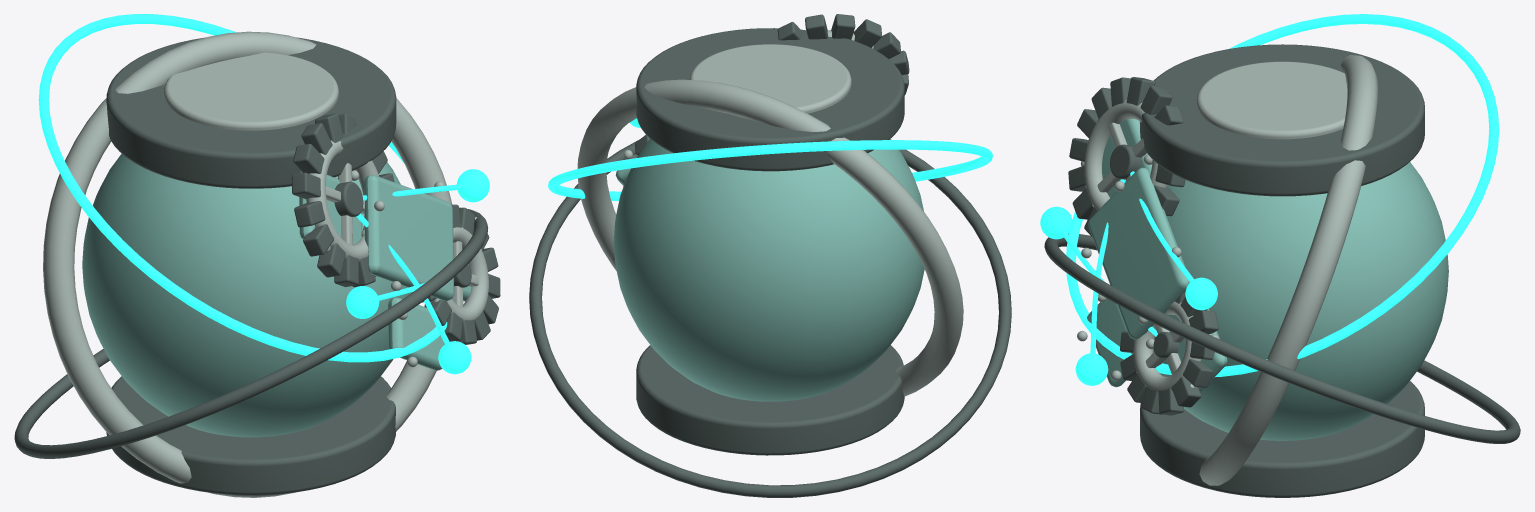
File: timbas-automation-core.glb
3 renders of one model, left to right at view 1: azimuth 30°, elevation 25°; view 2: azimuth 150°, elevation 25°; view 3: azimuth 270°, elevation 25°, orthographic. The views are drawn at different scales.
Parts seen in each view (by area): view 1: HERO_glass_chamber, GEAR_primary, HERO_upper_cap, HERO_lower_cap, HERO_center_spindle, ORBIT_outer, ORBIT_jade, GLASS_circuit_plate_01, GLASS_circuit_plate_04, GEAR_primary_01_ring, GEAR_primary_02_ring, NODE_02 (+12 smaller); view 2: HERO_glass_chamber, HERO_upper_cap, GEAR_primary, HERO_lower_cap, ORBIT_outer, HERO_center_spindle, ORBIT_jade, GEAR_primary_01_tooth_07, GEAR_primary_01_tooth_06; view 3: HERO_glass_chamber, HERO_upper_cap, HERO_lower_cap, GEAR_primary, HERO_center_spindle, ORBIT_outer, GLASS_circuit_plate_01, ORBIT_jade, GEAR_primary_01_ring, GEAR_primary_02_ring, GLASS_circuit_plate_04, GLASS_circuit_plate_02 (+13 smaller).
Boxes of the visible parts, x1=… form: HERO_glass_chamber: x1=82, y1=153, x2=412, y2=437; GEAR_primary: x1=43, y1=31, x2=452, y2=497; HERO_upper_cap: x1=106, y1=37, x2=396, y2=188; HERO_lower_cap: x1=106, y1=376, x2=395, y2=495; HERO_center_spindle: x1=163, y1=52, x2=338, y2=130; ORBIT_outer: x1=14, y1=207, x2=487, y2=458; ORBIT_jade: x1=38, y1=14, x2=447, y2=362; GLASS_circuit_plate_01: x1=364, y1=175, x2=454, y2=300; GLASS_circuit_plate_04: x1=388, y1=297, x2=444, y2=370; GEAR_primary_01_ring: x1=306, y1=140, x2=379, y2=262; GEAR_primary_02_ring: x1=434, y1=227, x2=488, y2=321; NODE_02: x1=346, y1=286, x2=379, y2=318; HERO_glass_chamber: x1=613, y1=139, x2=924, y2=401; HERO_upper_cap: x1=636, y1=28, x2=904, y2=171; GEAR_primary: x1=577, y1=79, x2=963, y2=396; HERO_lower_cap: x1=636, y1=345, x2=904, y2=455; ORBIT_outer: x1=529, y1=140, x2=1011, y2=497; HERO_center_spindle: x1=689, y1=44, x2=851, y2=113; ORBIT_jade: x1=548, y1=140, x2=992, y2=200; GEAR_primary_01_tooth_07: x1=853, y1=19, x2=881, y2=47; GEAR_primary_01_tooth_06: x1=831, y1=14, x2=855, y2=39; HERO_glass_chamber: x1=1153, y1=162, x2=1448, y2=440; HERO_upper_cap: x1=1140, y1=44, x2=1424, y2=196; HERO_lower_cap: x1=1140, y1=381, x2=1424, y2=497; GEAR_primary: x1=1199, y1=55, x2=1377, y2=485; HERO_center_spindle: x1=1196, y1=61, x2=1347, y2=139; ORBIT_outer: x1=1044, y1=234, x2=1520, y2=443; GLASS_circuit_plate_01: x1=1088, y1=167, x2=1189, y2=339; ORBIT_jade: x1=1066, y1=14, x2=1499, y2=376; GEAR_primary_01_ring: x1=1084, y1=99, x2=1167, y2=210; GEAR_primary_02_ring: x1=1133, y1=301, x2=1200, y2=393; GLASS_circuit_plate_04: x1=1087, y1=298, x2=1133, y2=387; GLASS_circuit_plate_02: x1=1102, y1=119, x2=1152, y2=197.
Size of the model in its own units: 1.66 by 1.44 by 1.62.
